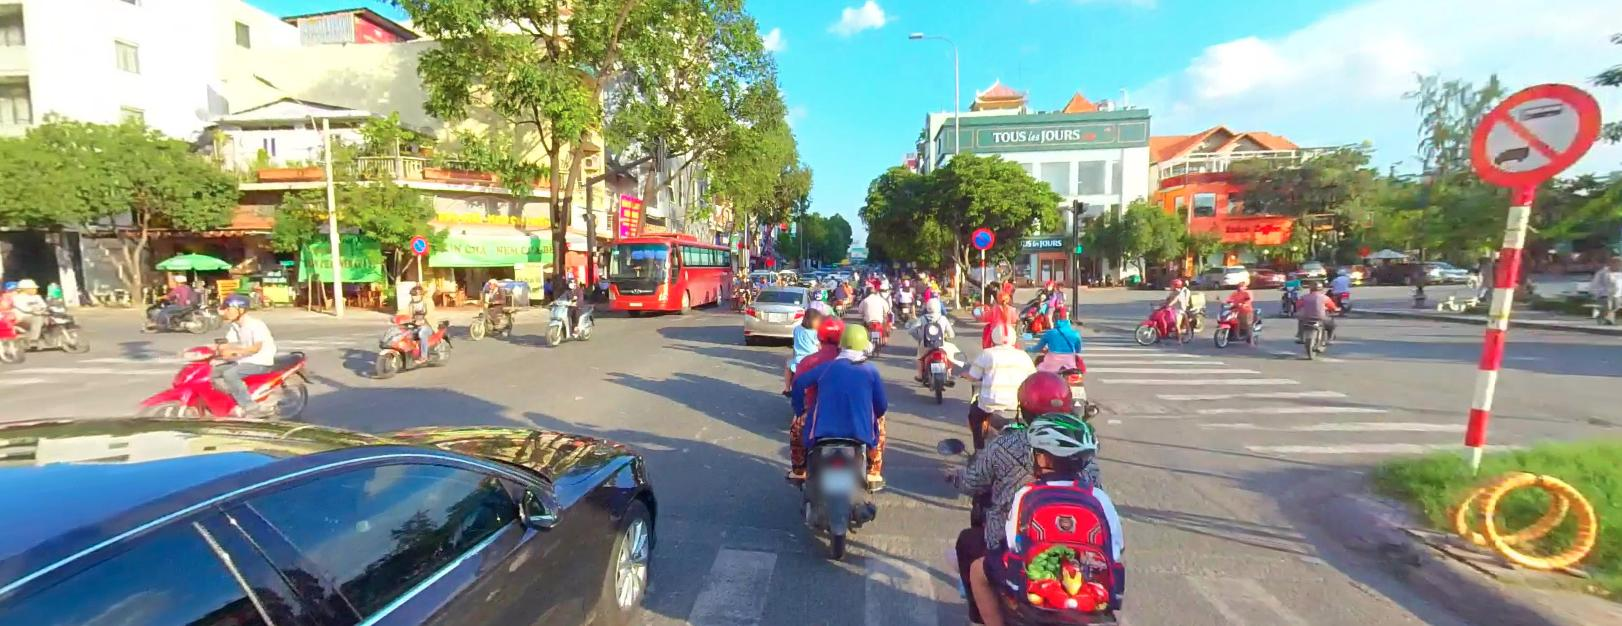Cam con lai: (1469, 79, 1604, 185)
Cam dung va do: (972, 226, 994, 247), (411, 234, 427, 254)
